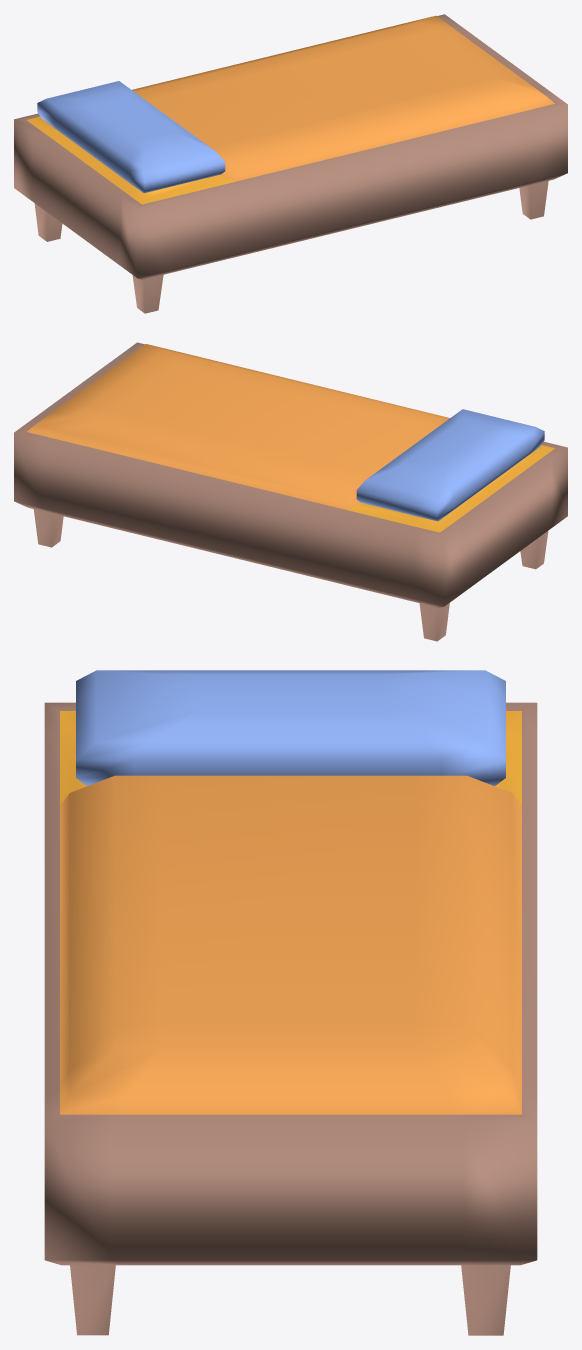
Rendered from Letto.fbx.
3 views of the same model, one above another, from view 1: azimuth 30°, elevation 25°; view 2: azimuth 150°, elevation 25°; view 3: azimuth 270°, elevation 25° (orthographic). The views are drawn at different scales.
Parts seen in each view (by area): view 1: Letto; view 2: Letto; view 3: Letto.
Part boxes in pixels (x1=…): Letto: x1=14, y1=14, x2=567, y2=313; Letto: x1=14, y1=342, x2=567, y2=641; Letto: x1=44, y1=670, x2=537, y2=1335.
Size of the model in its own units: 1189 by 385 by 589.
